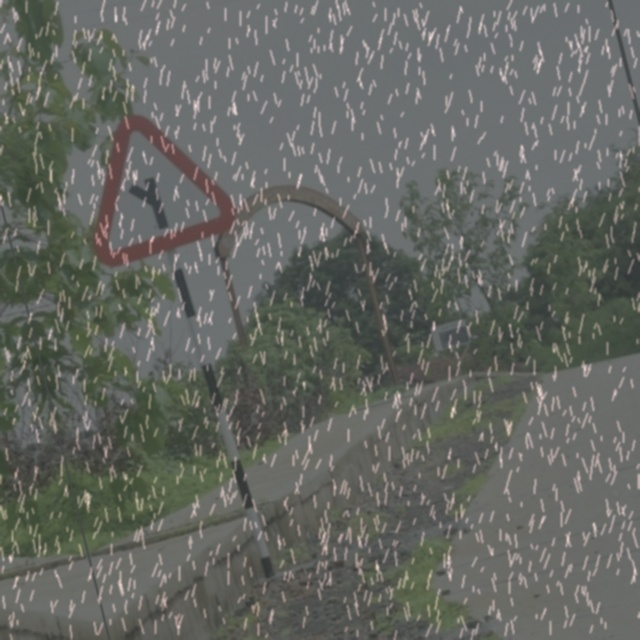Y_Intersection: (77, 99, 237, 260)
